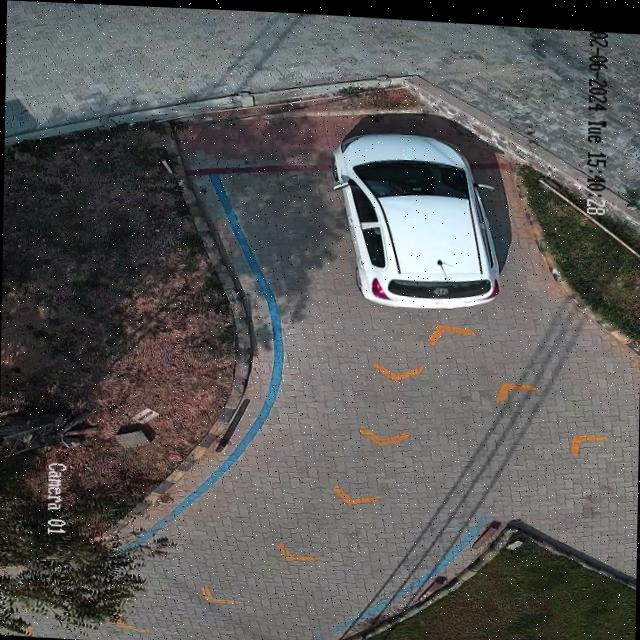car: (332, 129, 497, 304)
